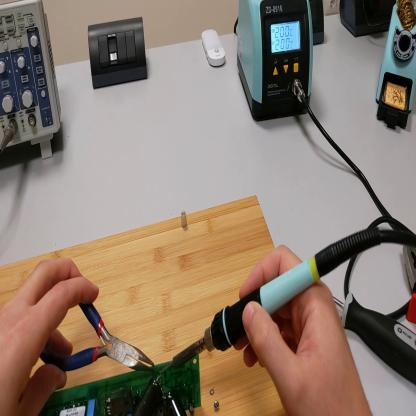hand: (235, 246, 374, 416), (1, 257, 101, 416)
high voltage board: (44, 362, 203, 416)
oscilloscope: (1, 3, 65, 168)
pliers: (40, 296, 153, 375), (401, 237, 416, 325)
screwdriver-: (334, 297, 416, 387)
socket: (341, 4, 394, 39), (311, 4, 328, 46)
welder base: (377, 2, 416, 135)
welder probe tip: (160, 224, 385, 378)
welder station: (237, 2, 317, 122)
working area: (1, 194, 288, 416)
